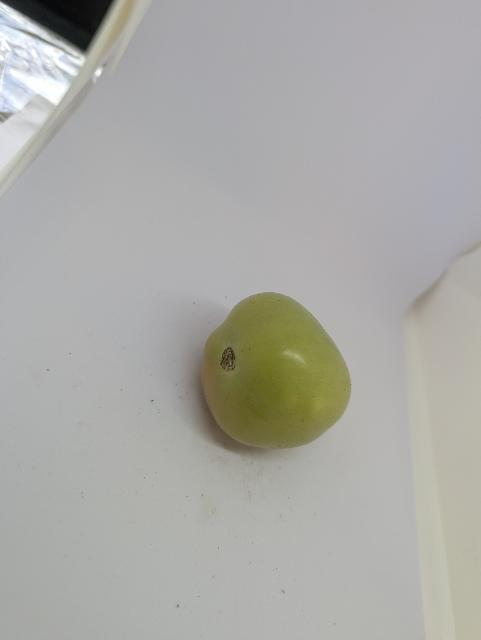green: (186, 281, 366, 458)
